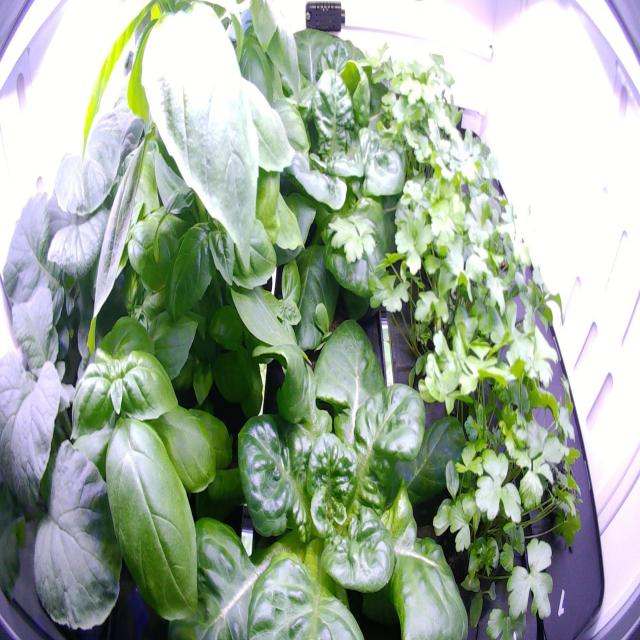Ready: (148, 291, 486, 639), (229, 54, 435, 361), (228, 5, 406, 169)
